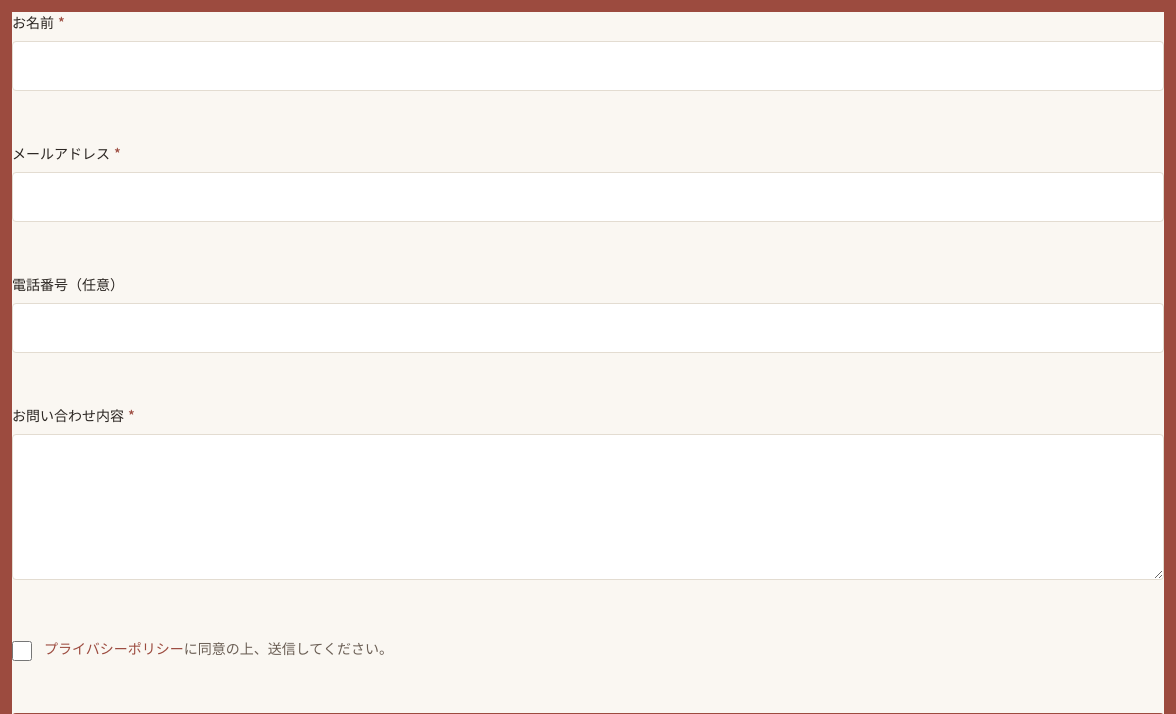
ContactForm › shows a required-field error on blur, not just on submit
Click the field labelled "お名前": [588, 66] box [12,41,1164,91]
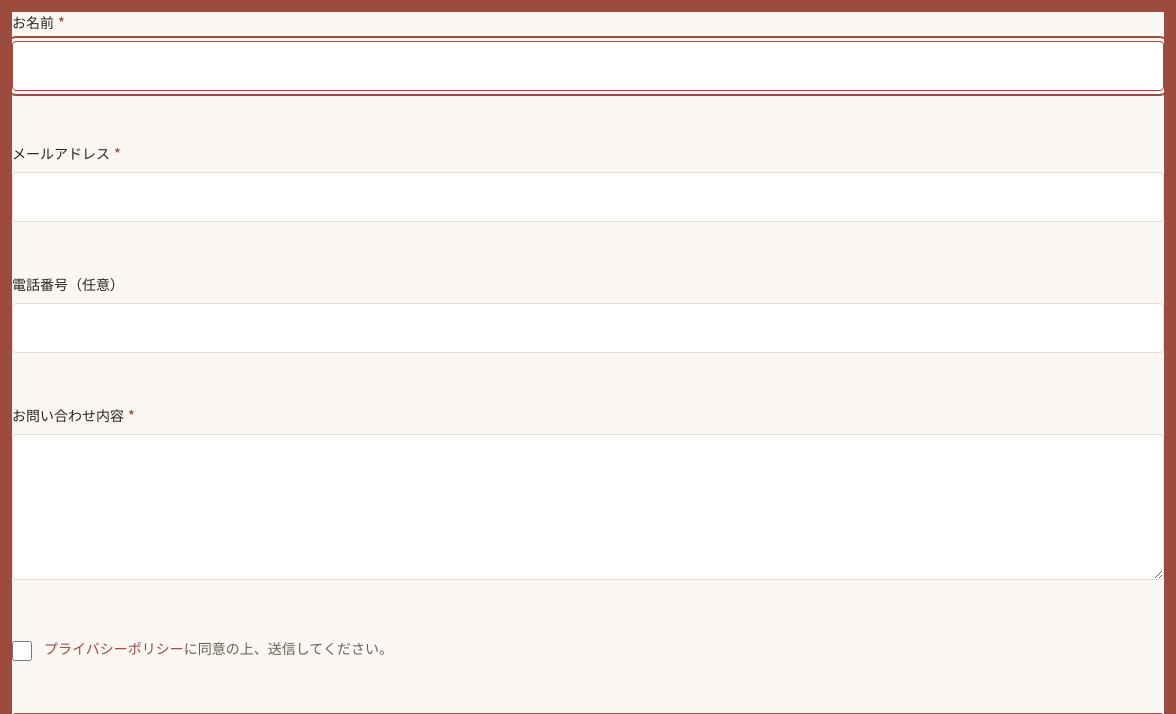
Press Tab
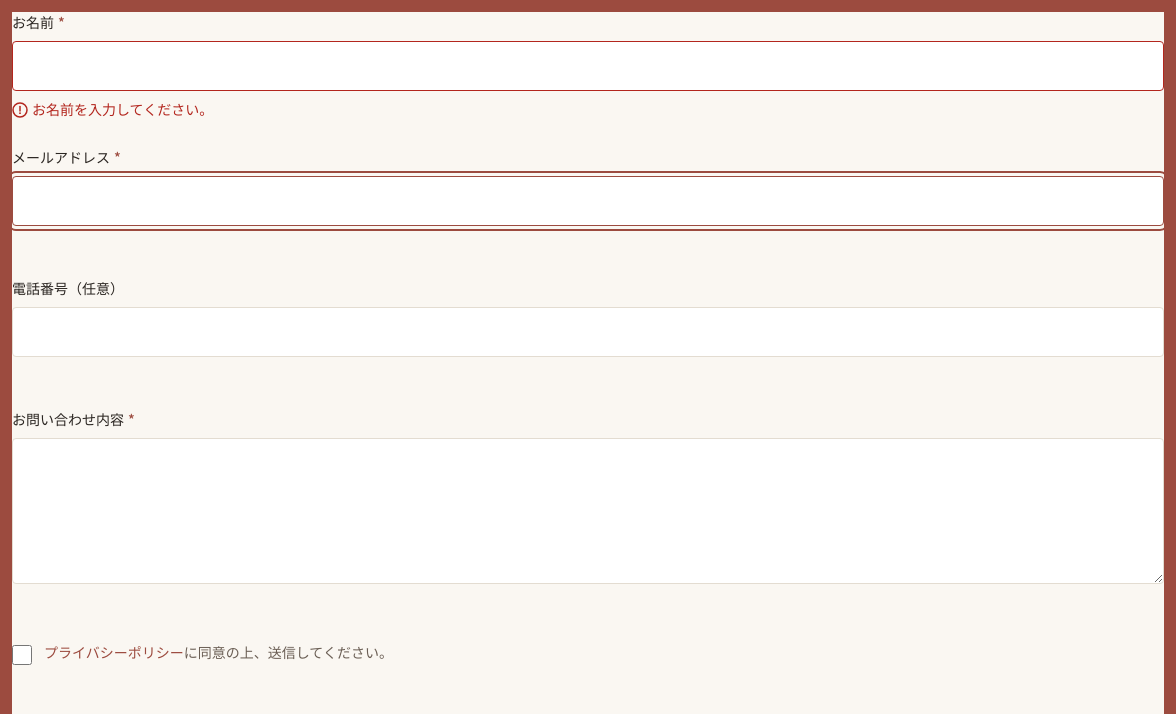
Now the text "お名前を入力してください。" is shown, box [12,99,213,120]
